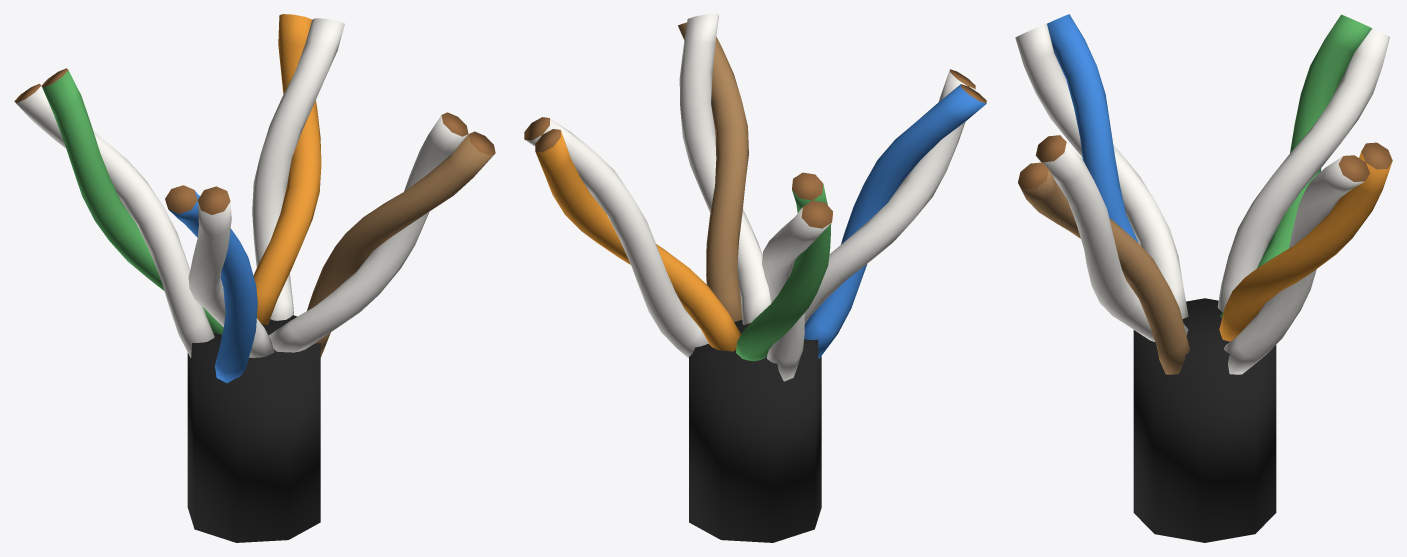
File: Pelado.fbx
3 renders of one model, left to right at view 1: azimuth 30°, elevation 25°; view 2: azimuth 150°, elevation 25°; view 3: azimuth 270°, elevation 25°, orthographic. The views are drawn at different scales.
Visible parts, largest first — view 1: Cilindro.001, Blanco-Naranja.001_tip, Blanco-Verde.001_tip, Blanco-Cafe.001_tip, Naranja.001_tip, Cafe.001_tip, Verde.001_tip, Azul.001_tip, Blanco-Azul.001_tip; view 2: Cilindro.001, Blanco-Naranja.001_tip, Cafe.001_tip, Blanco-Cafe.001_tip, Azul.001_tip, Naranja.001_tip, Blanco-Azul.001_tip, Verde.001_tip, Blanco-Verde.001_tip; view 3: Cilindro.001, Blanco-Verde.001_tip, Naranja.001_tip, Blanco-Azul.001_tip, Blanco-Cafe.001_tip, Cafe.001_tip, Blanco-Naranja.001_tip, Azul.001_tip, Verde.001_tip.
Boxes of the visible parts, x1,y1,x2,y2 form: Cilindro.001: (187,315,320,542); Blanco-Naranja.001_tip: (252,18,344,320); Blanco-Verde.001_tip: (14,83,214,358); Blanco-Cafe.001_tip: (268,112,468,352); Naranja.001_tip: (253,14,321,325); Cafe.001_tip: (307,131,495,357); Verde.001_tip: (41,68,223,334); Azul.001_tip: (165,185,257,382); Blanco-Azul.001_tip: (188,186,274,357); Cilindro.001: (689,320,821,542); Blanco-Naranja.001_tip: (524,117,708,358); Cafe.001_tip: (678,22,748,321); Blanco-Cafe.001_tip: (679,14,771,325); Azul.001_tip: (804,84,986,358); Naranja.001_tip: (535,129,741,351); Blanco-Azul.001_tip: (804,69,975,323); Verde.001_tip: (736,172,831,361); Blanco-Verde.001_tip: (762,200,832,381); Cilindro.001: (1133,298,1276,542); Blanco-Verde.001_tip: (1217,28,1389,312); Naranja.001_tip: (1219,142,1392,341); Blanco-Azul.001_tip: (1015,23,1188,319); Blanco-Cafe.001_tip: (1035,135,1188,341); Cafe.001_tip: (1018,162,1189,374); Blanco-Naranja.001_tip: (1224,155,1369,374); Azul.001_tip: (1047,14,1138,242); Verde.001_tip: (1219,14,1371,317).
Bounding box in the file's own units: 187 × 237 × 185.
